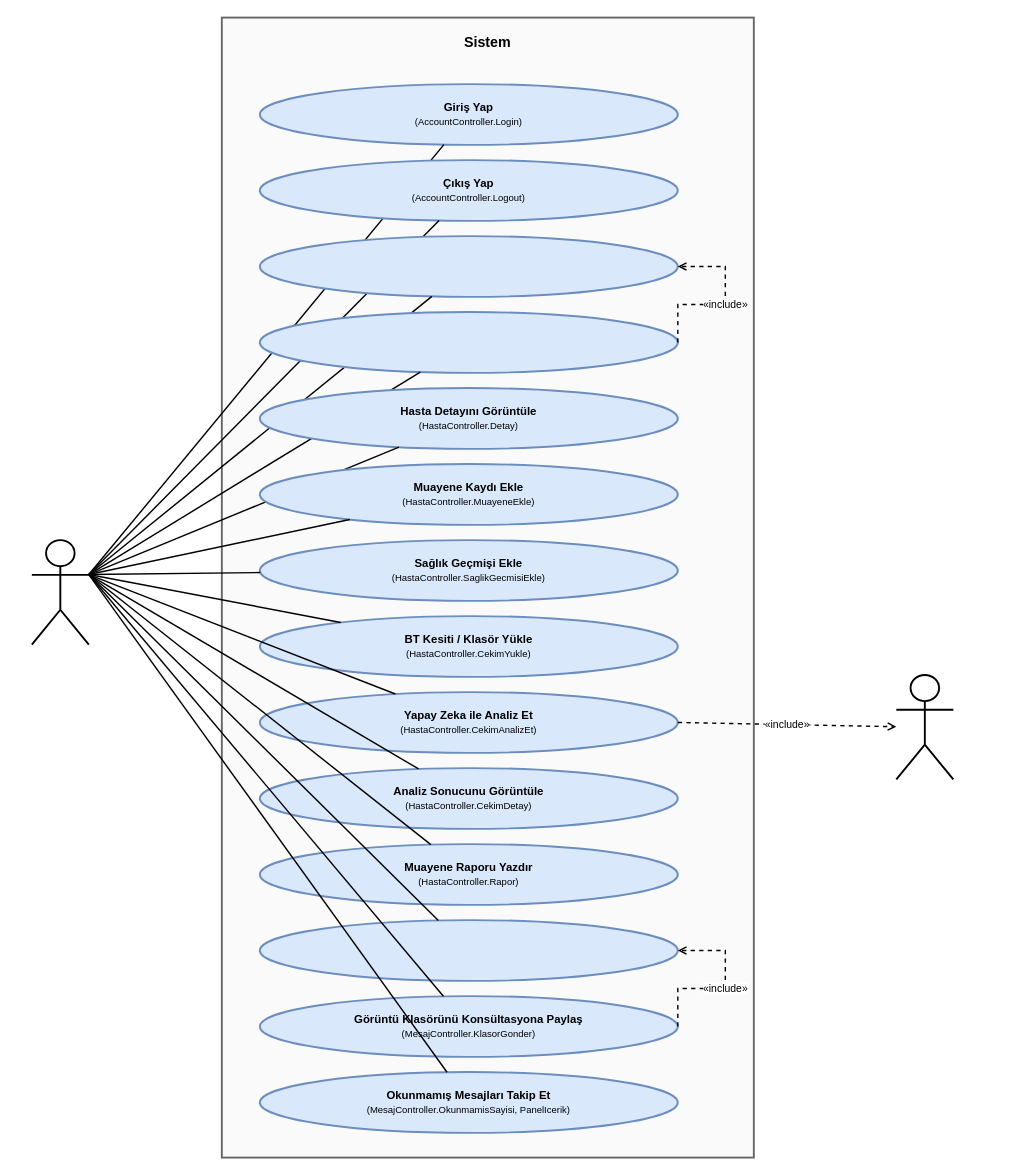
Image size: 1026x1174. Some labels were removed from this diagram. The centre of each missing label's shape, as x and y in pixels:
"Hasta Listesini Görüntüle (HastaController.Index)" goes at (468,266).
"Hekim (Doktor)" goes at (59,592).
"Meslektaşa Mesaj Gönder (MesajController.Gonder)" goes at (468,950).
"Yapay Zeka Servisi (FastAPI)" goes at (924,727).
"Yeni Hasta Ekle / TC ile Sorgula (HastaController.Ekle, TcKontrolEt)" goes at (468,342).
